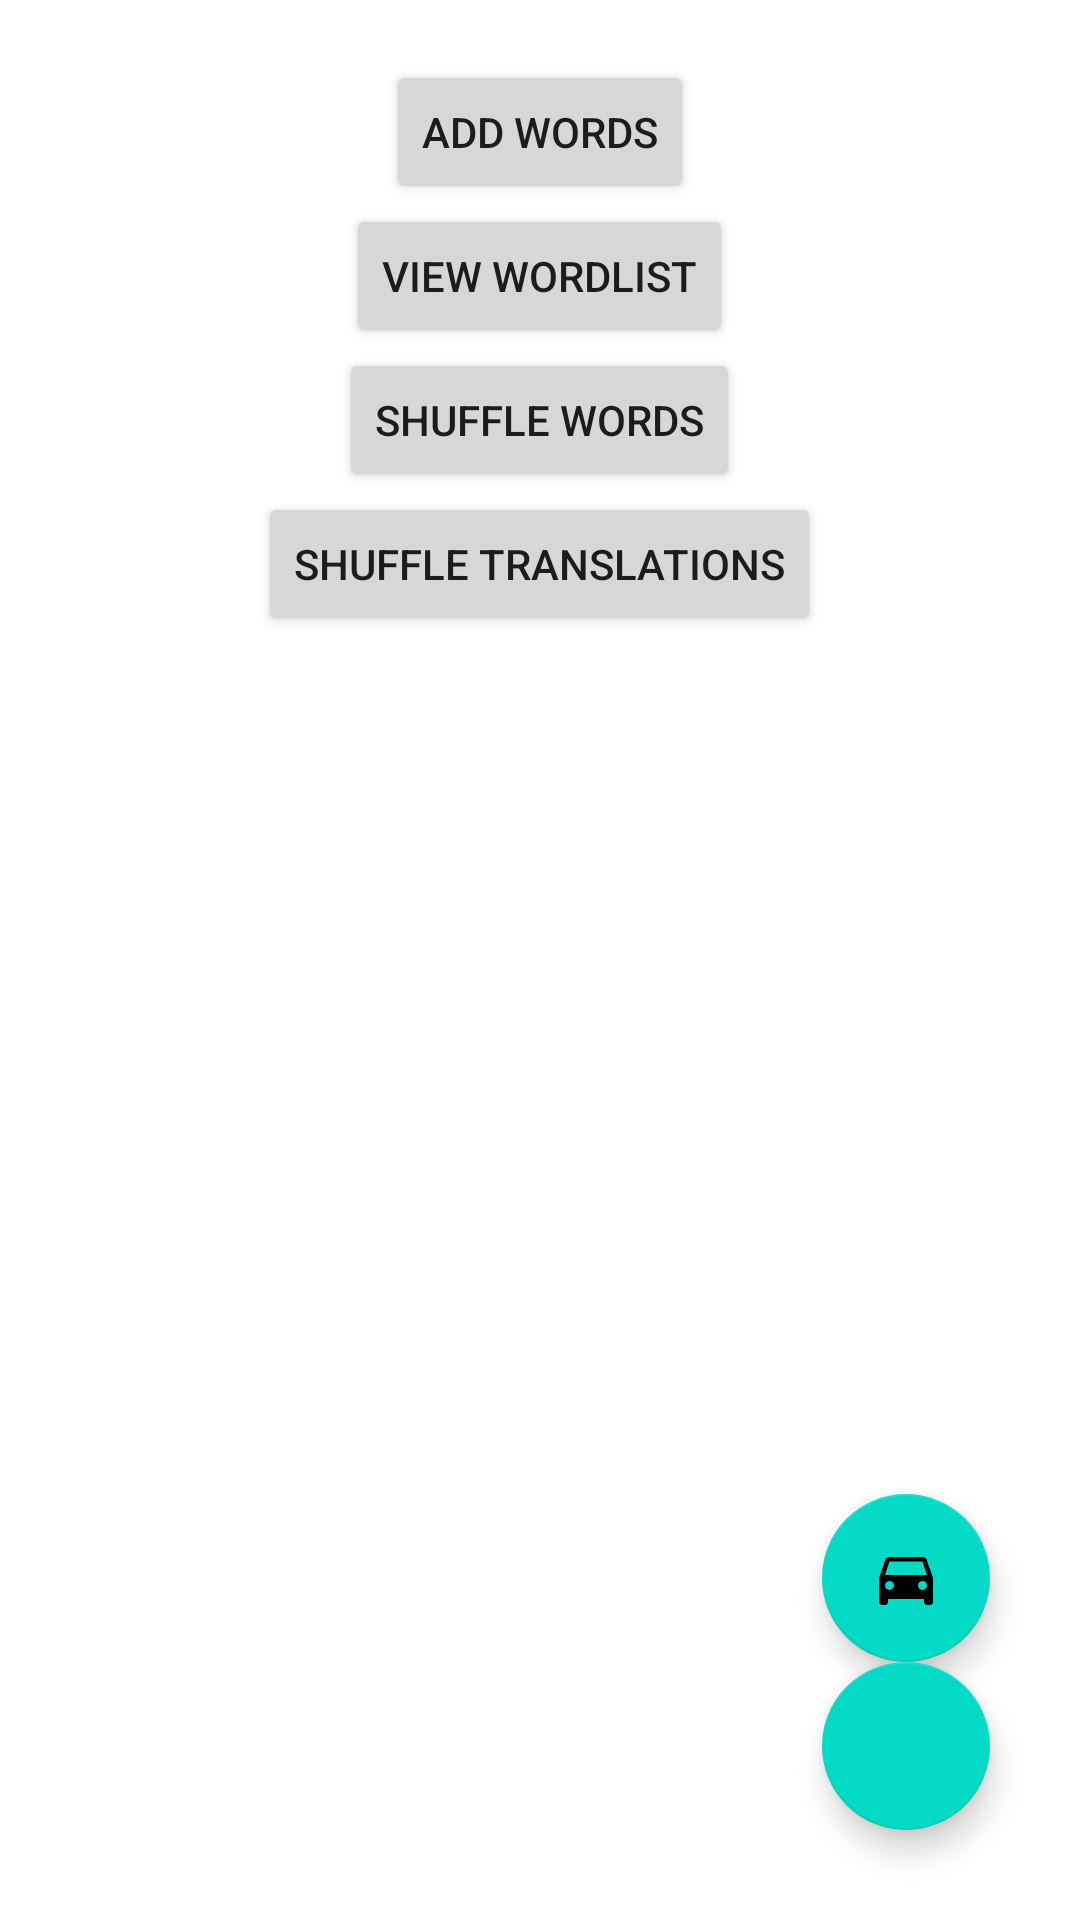

Named icons in this screenshot (1080px x 1920px) and their centers, (x,y):
directions car: (906,1578)
